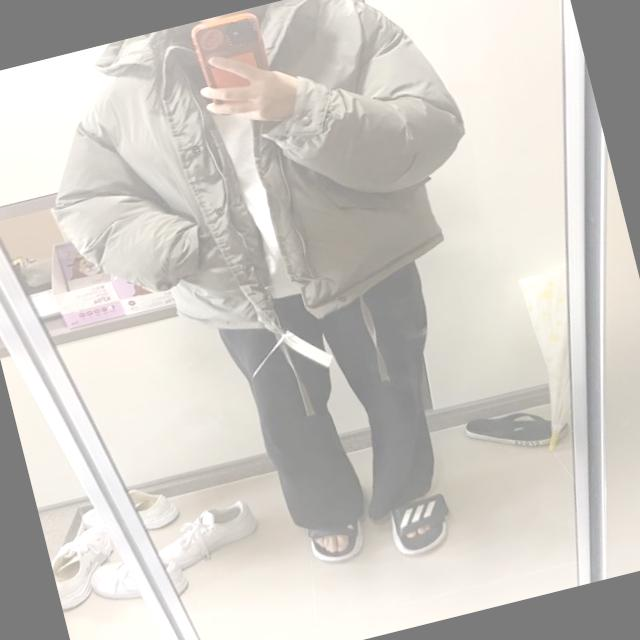padding: (13, 0, 501, 370)
trainingpants: (212, 250, 473, 552)
